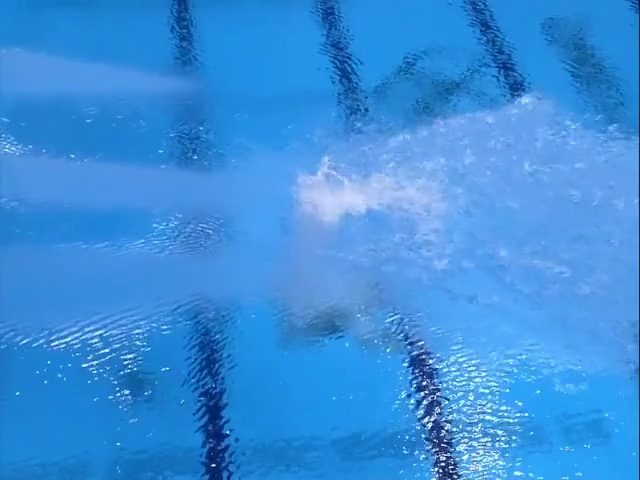splash: (290, 156, 374, 225)
